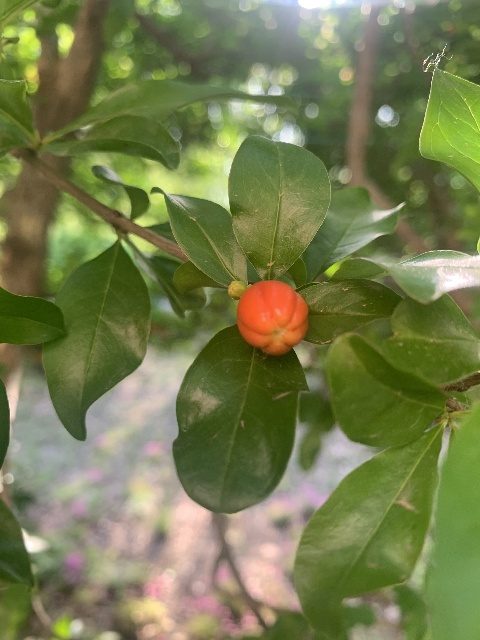bud: (236, 280, 309, 355)
